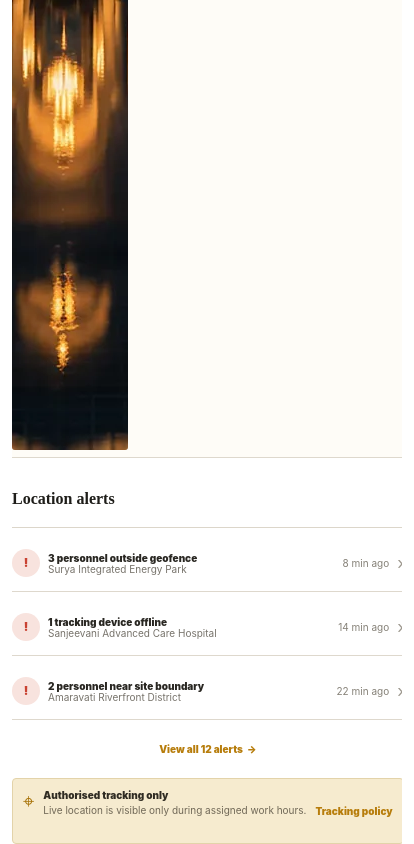
Test case: Management Command Centre and Geo Location › matches privacy copy and opens the honest tracking policy locally
(page scrolled)
Expected: the text "Authorised tracking only" is shown, [43,789,168,801]
Expected: the text "Live location is visible only during assigned work hours." is shown, [43,804,306,816]
Click the link "Tracking policy" at (354,811), box [316,805,393,817]
(page scrolled)
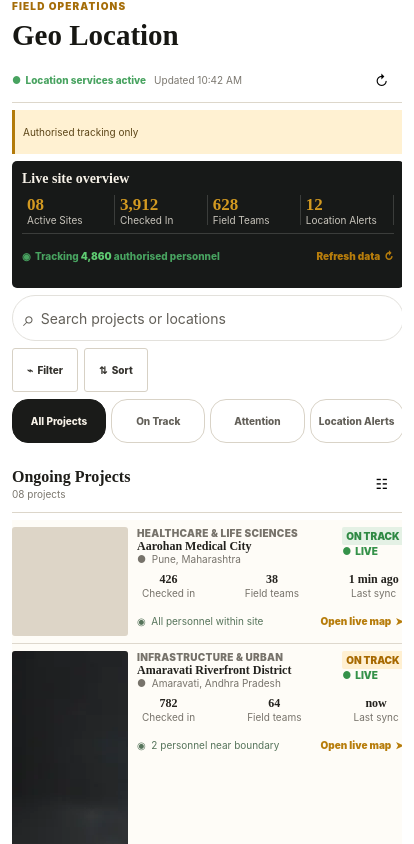
Expected: the text "Authorised tracking only" is shown, [23,126,138,138]
